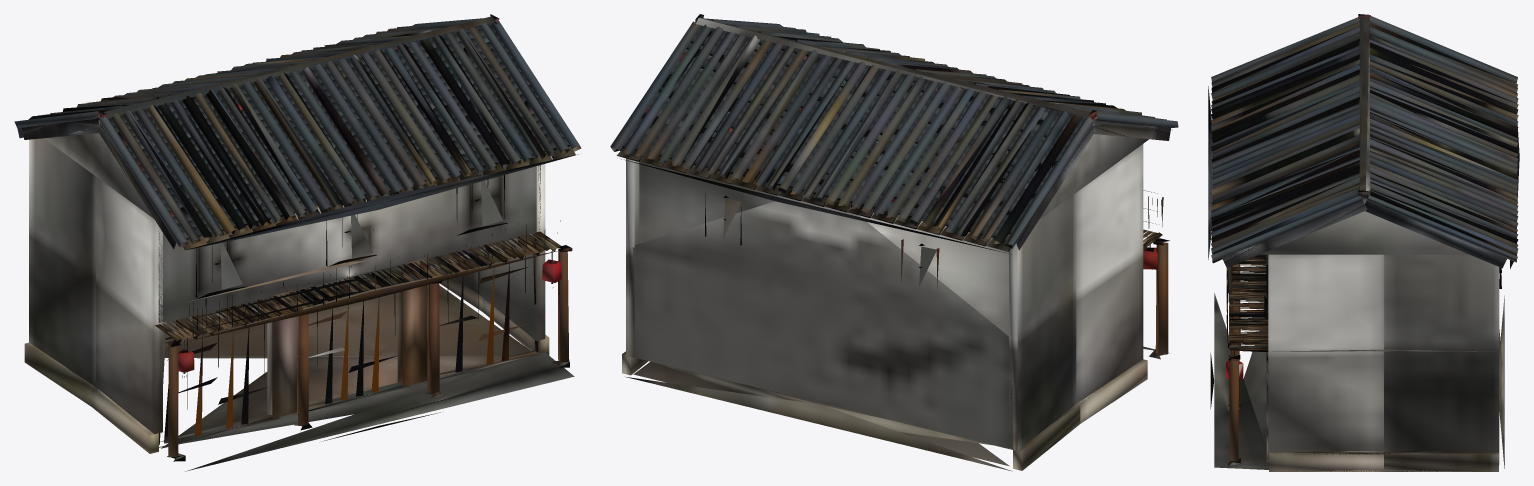
Rendered from lib_lib_house_a2.far.glb.
3 renders of one model, left to right at view 1: azimuth 30°, elevation 25°; view 2: azimuth 150°, elevation 25°; view 3: azimuth 270°, elevation 25°, orthographic. The views are drawn at different scales.
Visible parts, largest first — view 1: lo; view 2: lo; view 3: lo.
Part boxes in pixels (x1,y1,x2,y2): lo: [14, 14, 581, 471]; lo: [610, 14, 1178, 471]; lo: [1208, 14, 1519, 471].
Size of the model in its own units: 11.12 by 8 by 8.09.
1 material, 1 textured.
